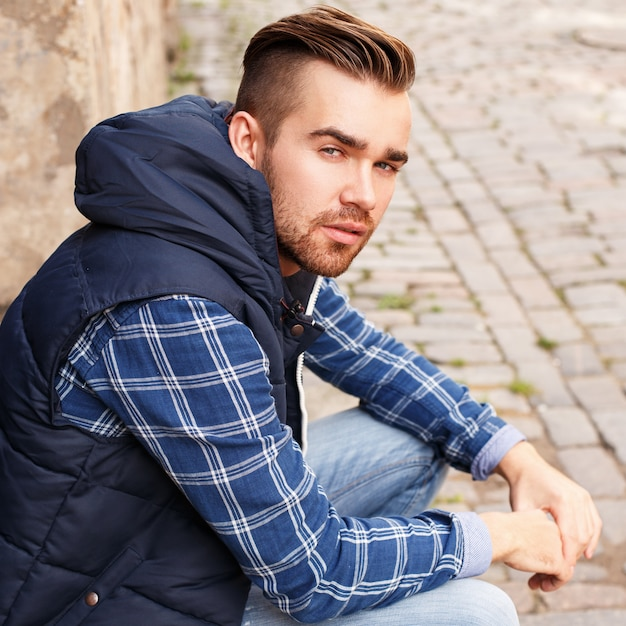young: (229, 7, 430, 287)
